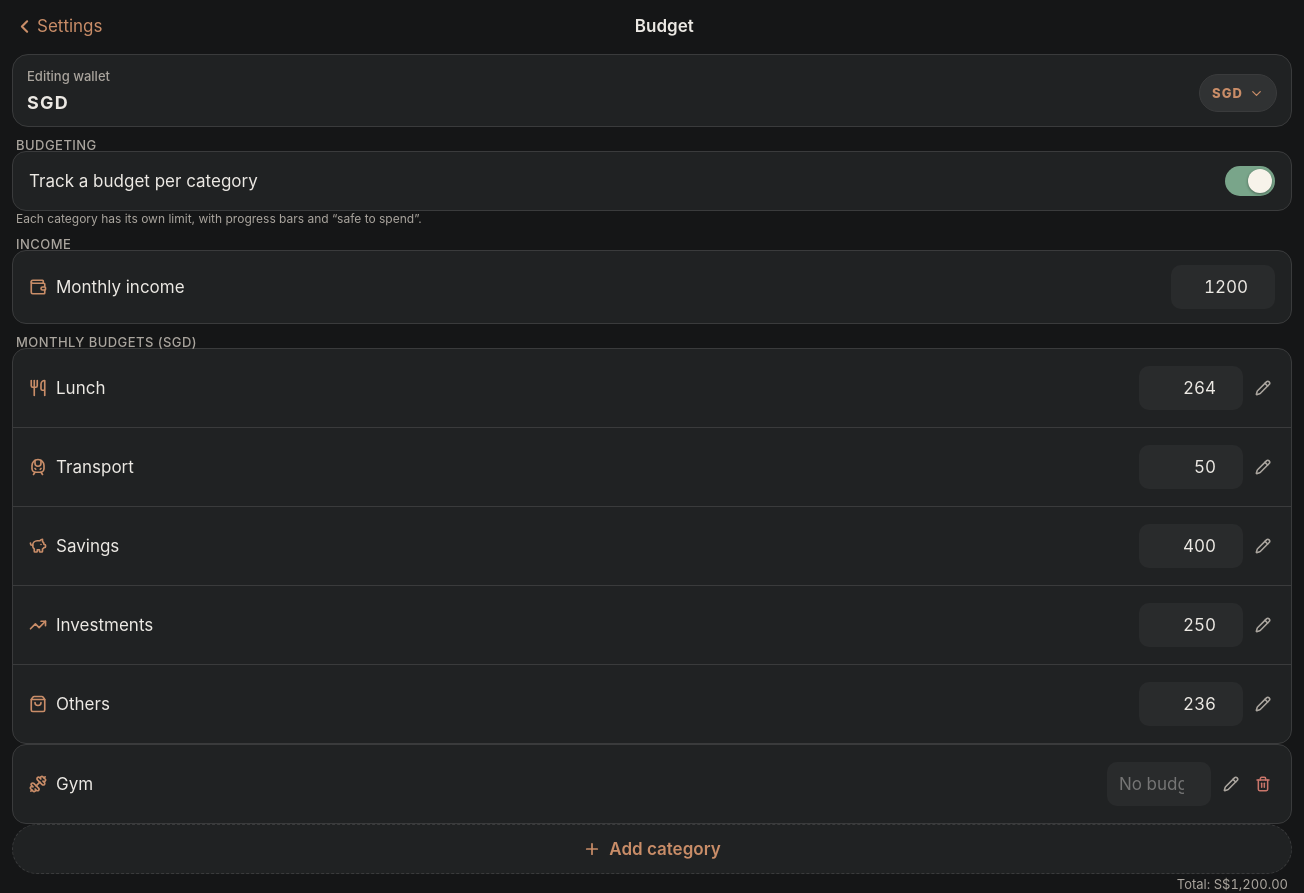
Test case: BudgetSettings › blocks removal when entries use the category
Click the button named "Remove Gym": (1263,784) 1251,772 -> 1275,796
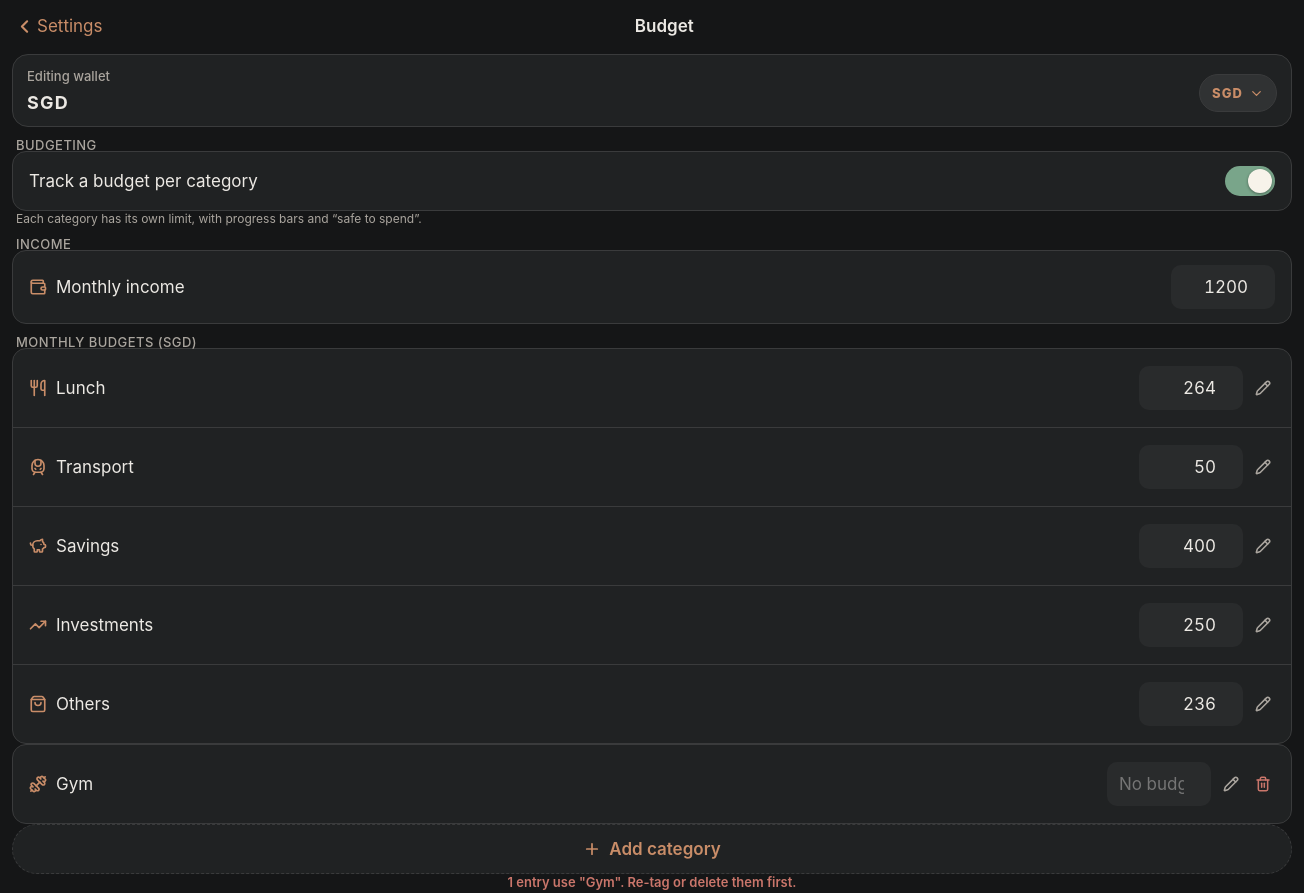
Expected: the text "use \"Gym\"" is shown, 508,874 -> 796,890
